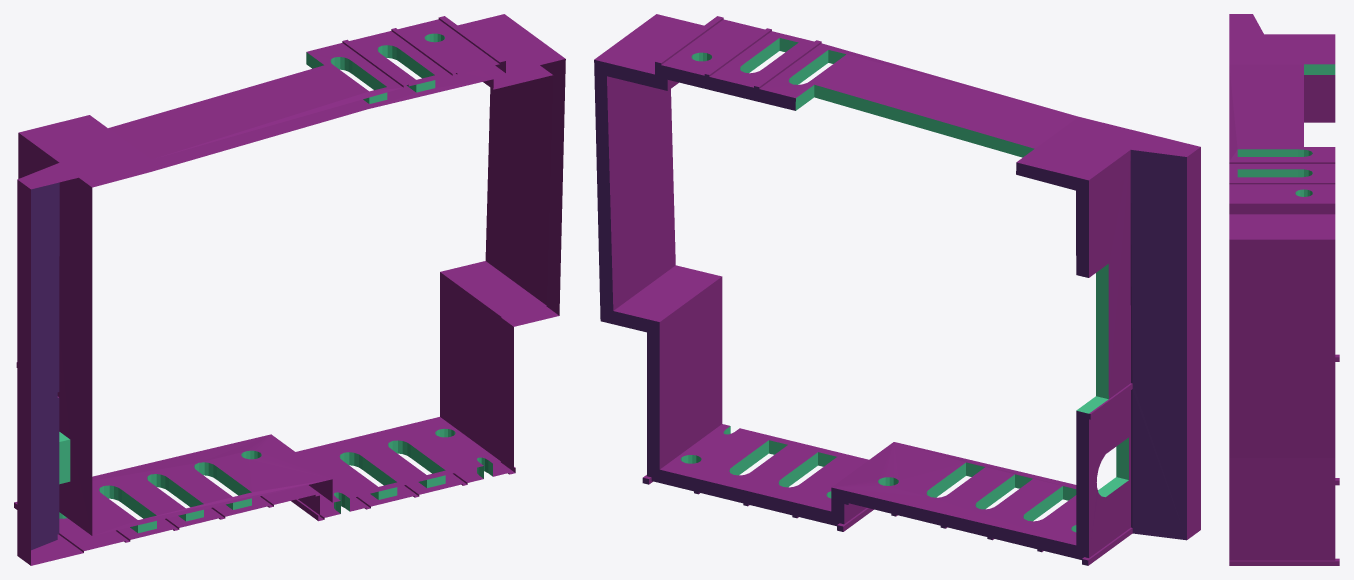
File: Mazowiecie Centrum Sztuki Współczesnej Tier 2.fbx
3 renders of one model, left to right at view 1: azimuth 30°, elevation 25°; view 2: azimuth 150°, elevation 25°; view 3: azimuth 270°, elevation 25°, orthographic. The views are drawn at different scales.
Parts seen in each view (by area): view 1: Mazowieckie_Centrum; view 2: Mazowieckie_Centrum; view 3: Mazowieckie_Centrum.
Part boxes in pixels (left/top/right/bottom): Mazowieckie_Centrum: left=14, top=14, right=565, bottom=565; Mazowieckie_Centrum: left=594, top=14, right=1200, bottom=565; Mazowieckie_Centrum: left=1229, top=14, right=1339, bottom=565.
Size of the model in its own units: 3.02 by 2.24 by 0.6242.
